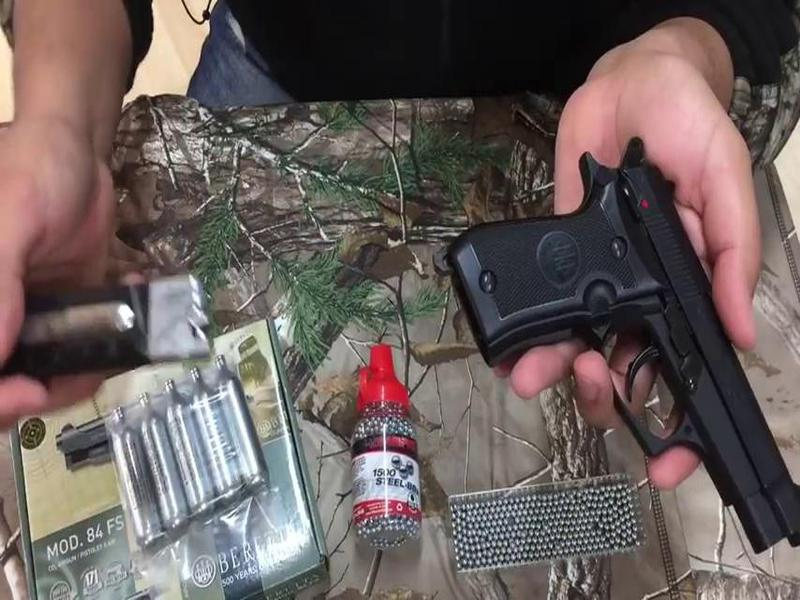Pistola: (461, 132, 800, 556)
